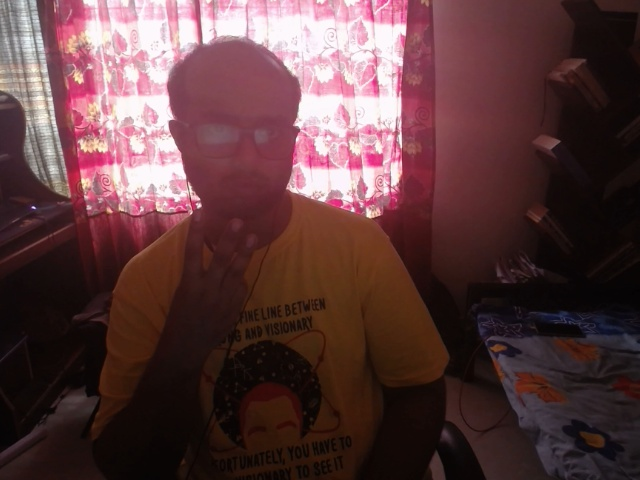three: (157, 202, 293, 330)
